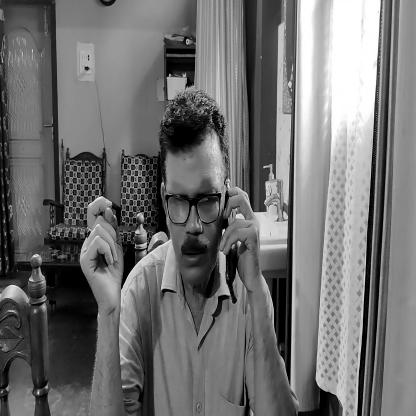Normal: (154, 89, 227, 286)
